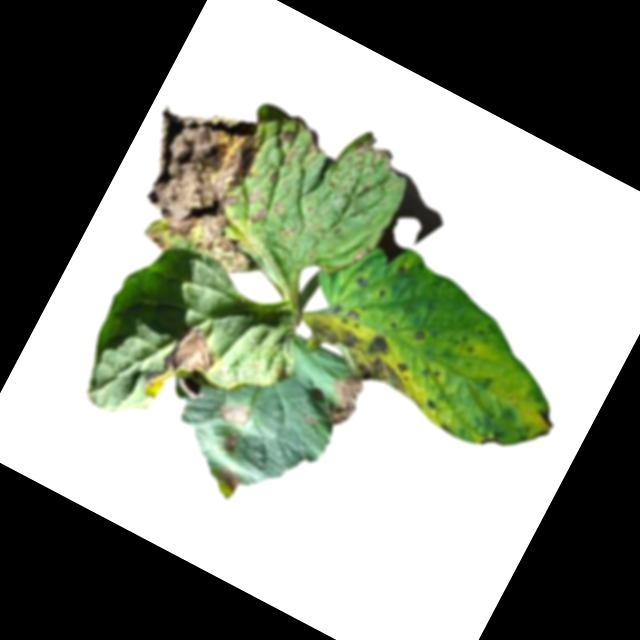Early_blight: (103, 80, 314, 293), (300, 295, 434, 401), (139, 314, 228, 417), (316, 369, 371, 431), (349, 129, 398, 173), (218, 396, 255, 431), (530, 404, 563, 441), (213, 462, 245, 494), (219, 429, 242, 453), (353, 270, 374, 292), (352, 241, 371, 265), (420, 393, 441, 413), (410, 323, 429, 343)
